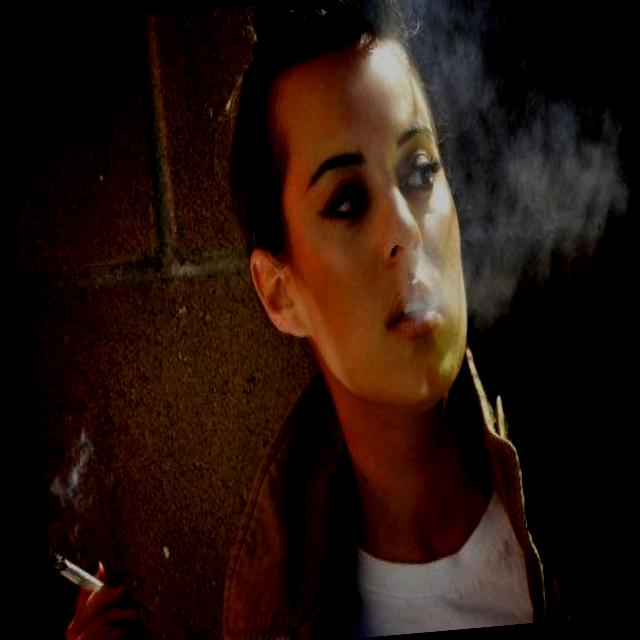smoke: (37, 524, 128, 618)
